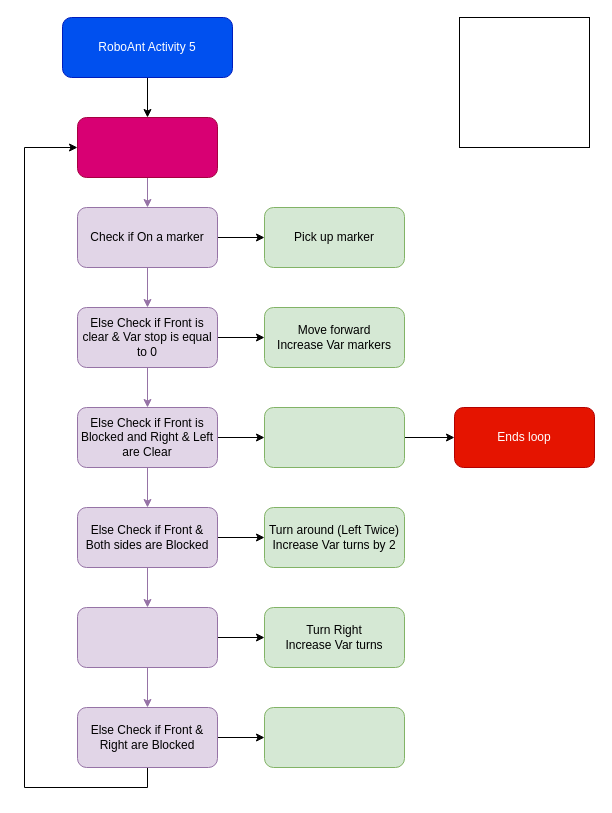
This 612x813 diagram has some shape labels left out. Here are the shapes that lost their labels. From the top down, the centre of each, then its label:
At point 524,82: "Blue = Task Pink = Loop Purple = Tests Green = Instruction Red = End loop".
At point 147,147: "While Var stop is equal to 0".
At point 334,437: "Increase Var stop Put down all markers Display challenges".
At point 147,637: "Else Check if Front & Left are Blocked".
At point 334,737: "Turn Left Increase Var turns".
